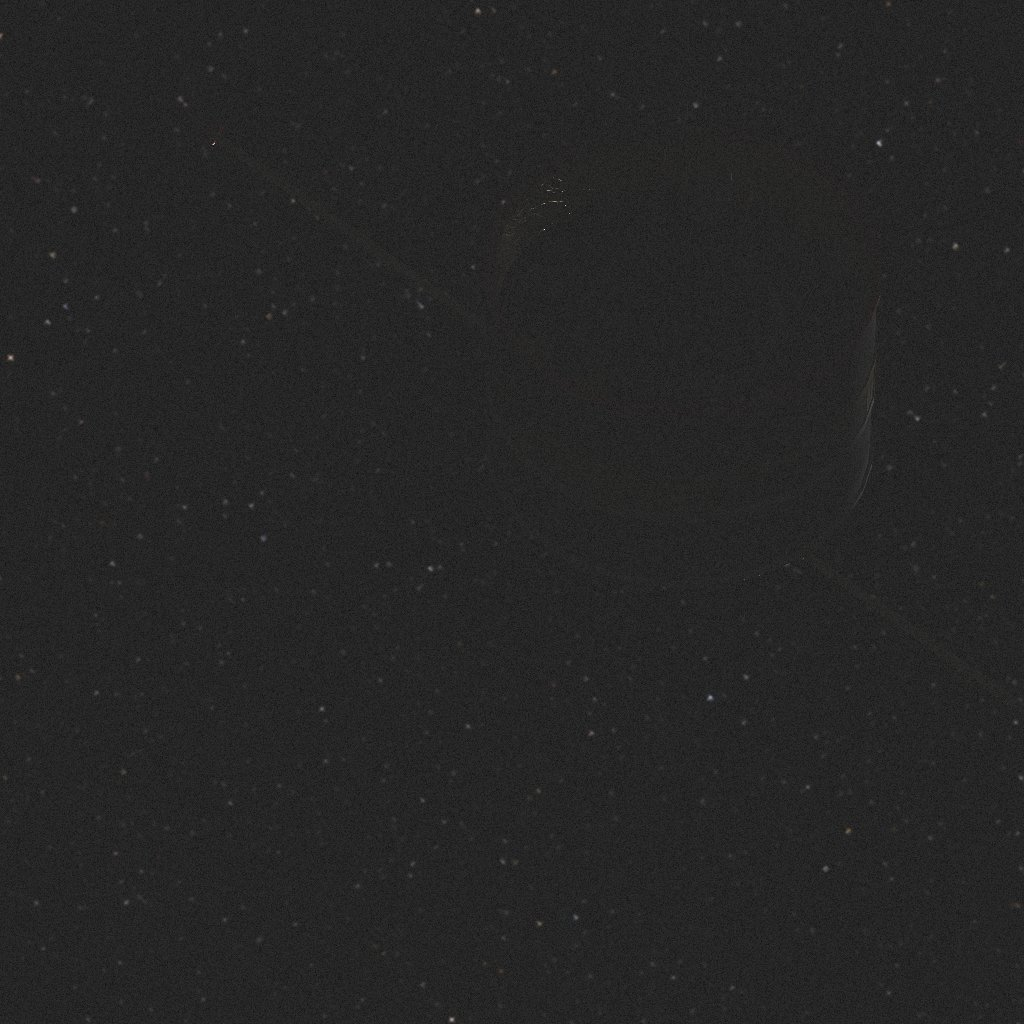double_star: (200, 0, 1024, 714)
